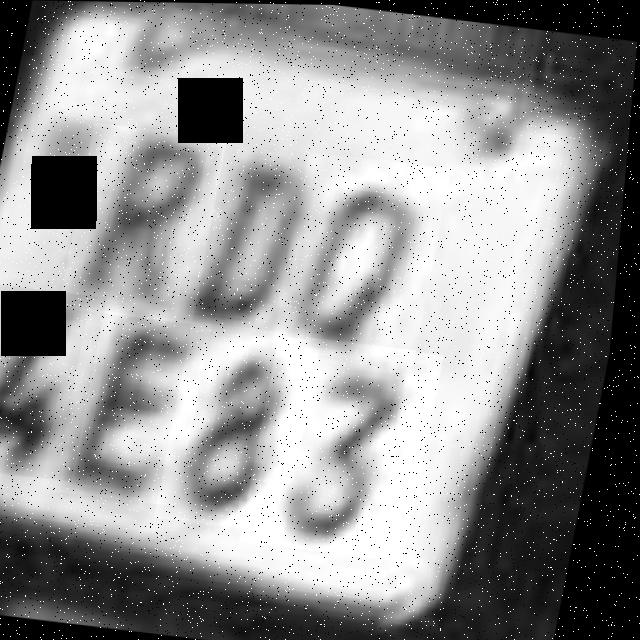3: (247, 334, 451, 561)
4: (0, 282, 112, 481)
8: (162, 319, 329, 534)
E: (61, 308, 218, 505)
O: (276, 151, 455, 366), (167, 134, 345, 342)
R: (63, 121, 231, 323)
